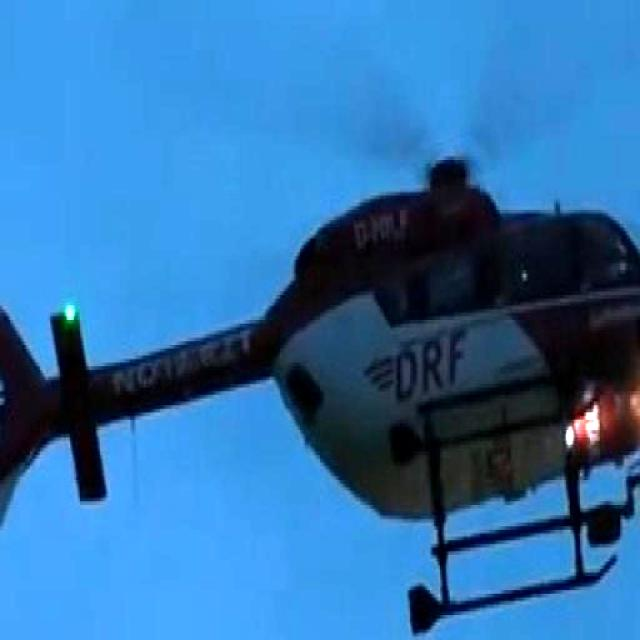drone: (0, 152, 640, 640)
